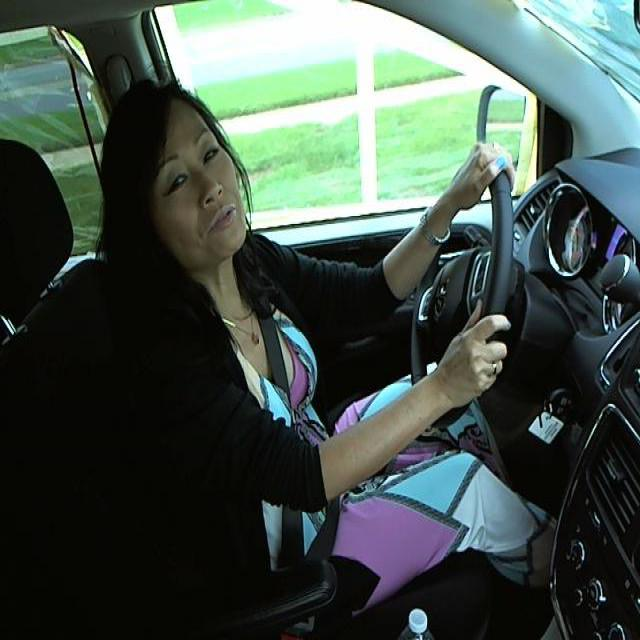seatbelt: (263, 307, 343, 576)
